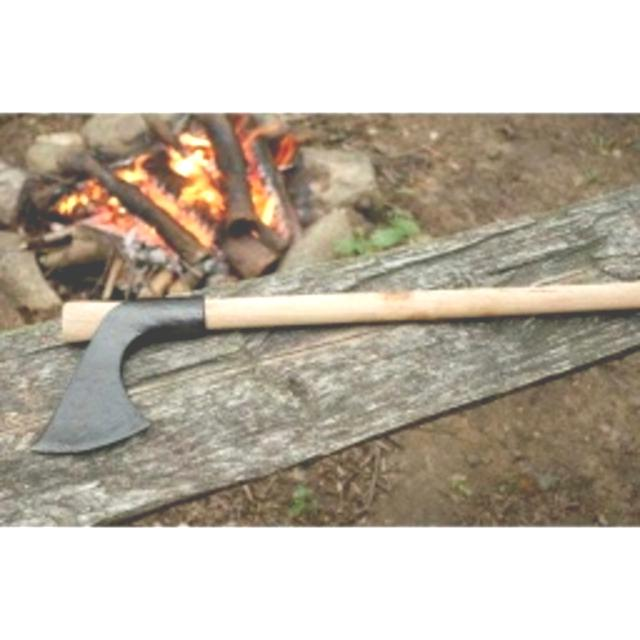ax: (18, 270, 640, 467)
